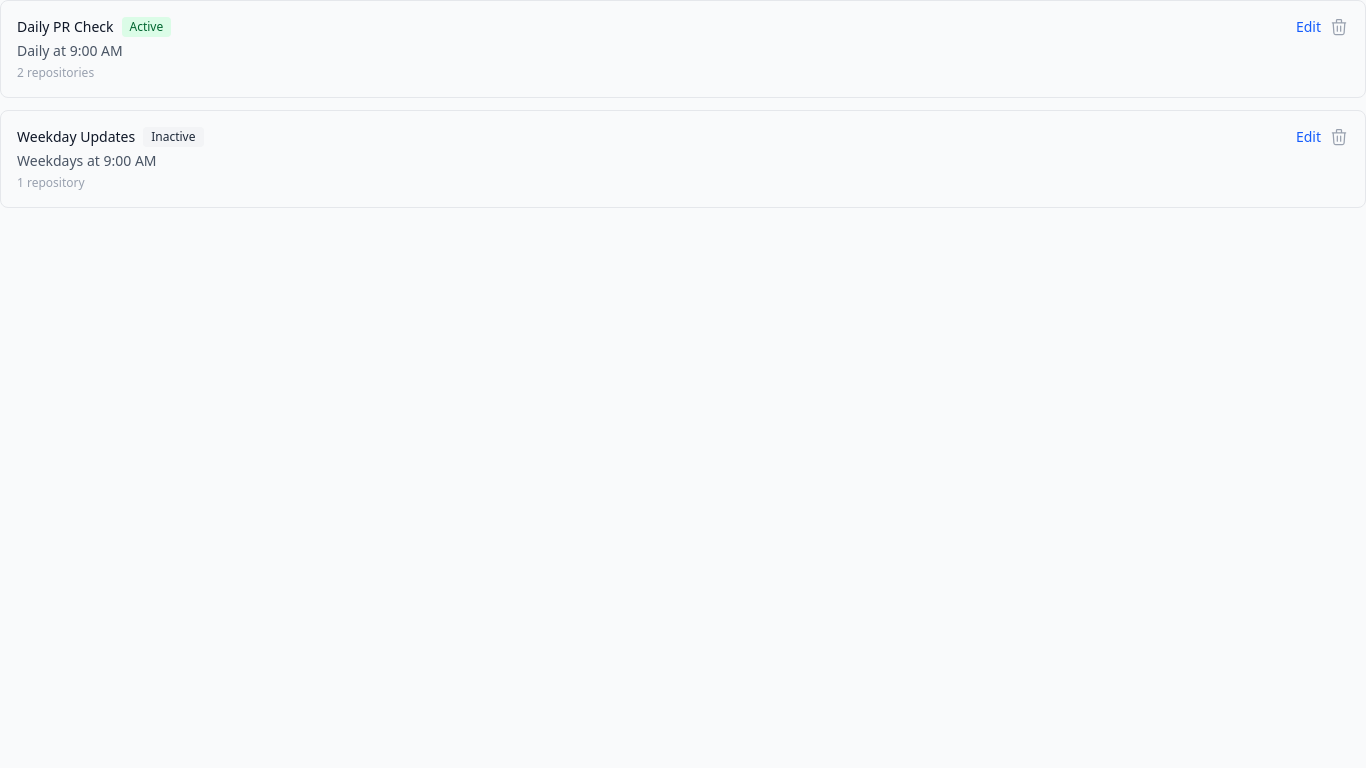
ScheduleList › delete functionality › shows confirmation dialog when delete button clicked
Click the button named "delete daily pr check" at coordinates (1339, 27), box [1329,17,1349,37]
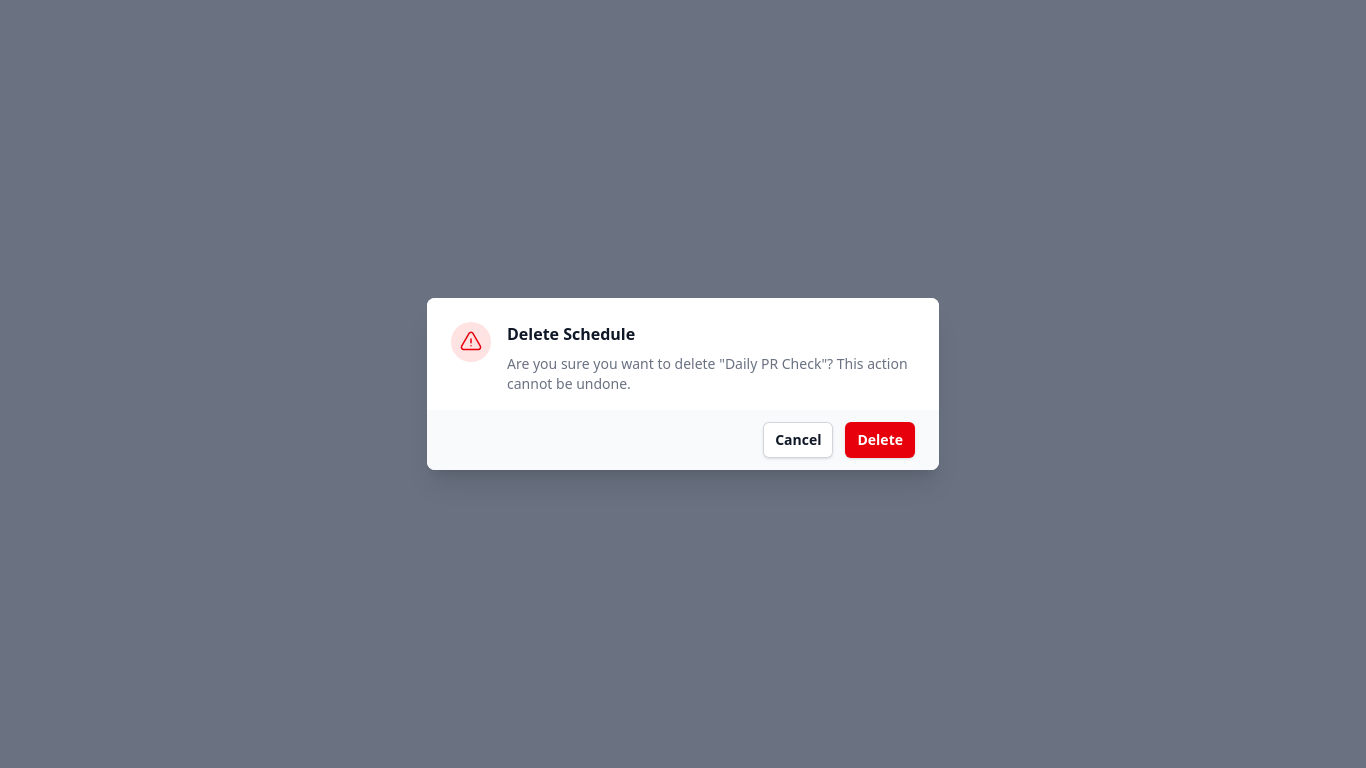
expect the heading "Delete Schedule" is shown: met, box [507,323,635,345]
expect the text "Are you sure you want to delete \"Daily PR Check\"" is shown: met, box [507,354,915,394]
